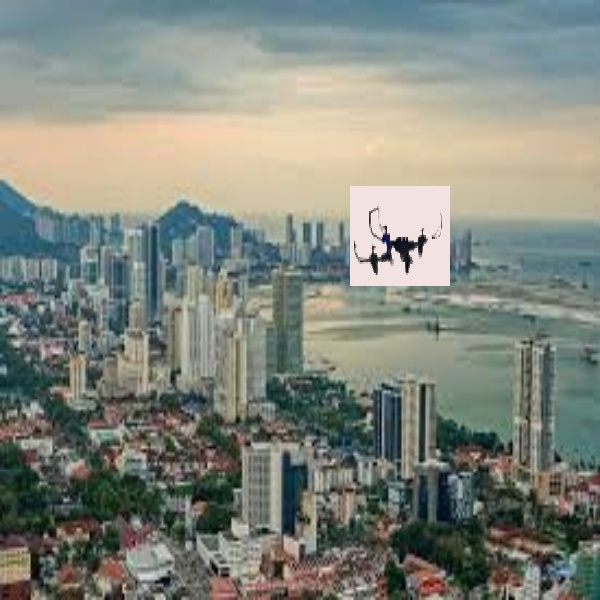drone: (352, 188, 446, 282)
